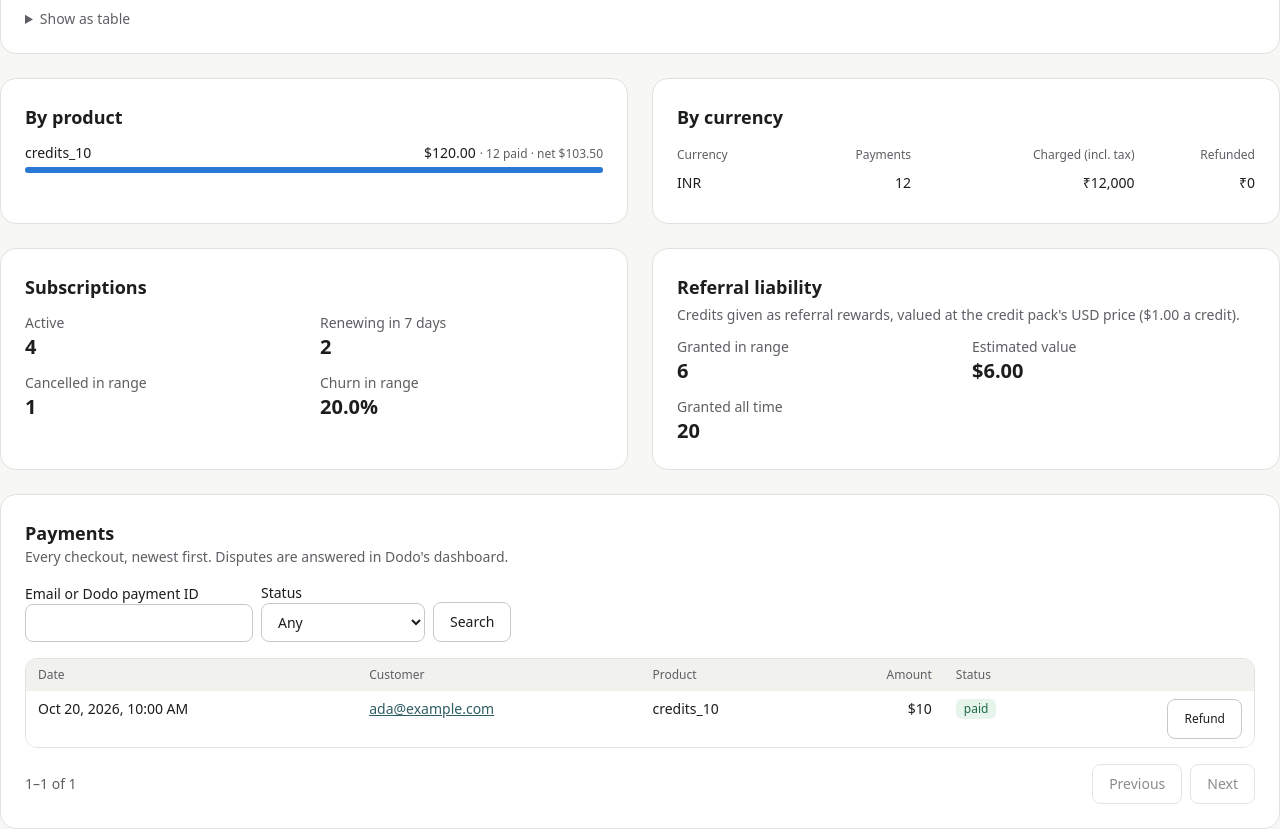
Scenario: revenue › says when a partial refund can't go through
(page scrolled)
Click the button with aria-label "Refund ada@example.com". click: (1205,719)
box: [1167,699,1242,739]
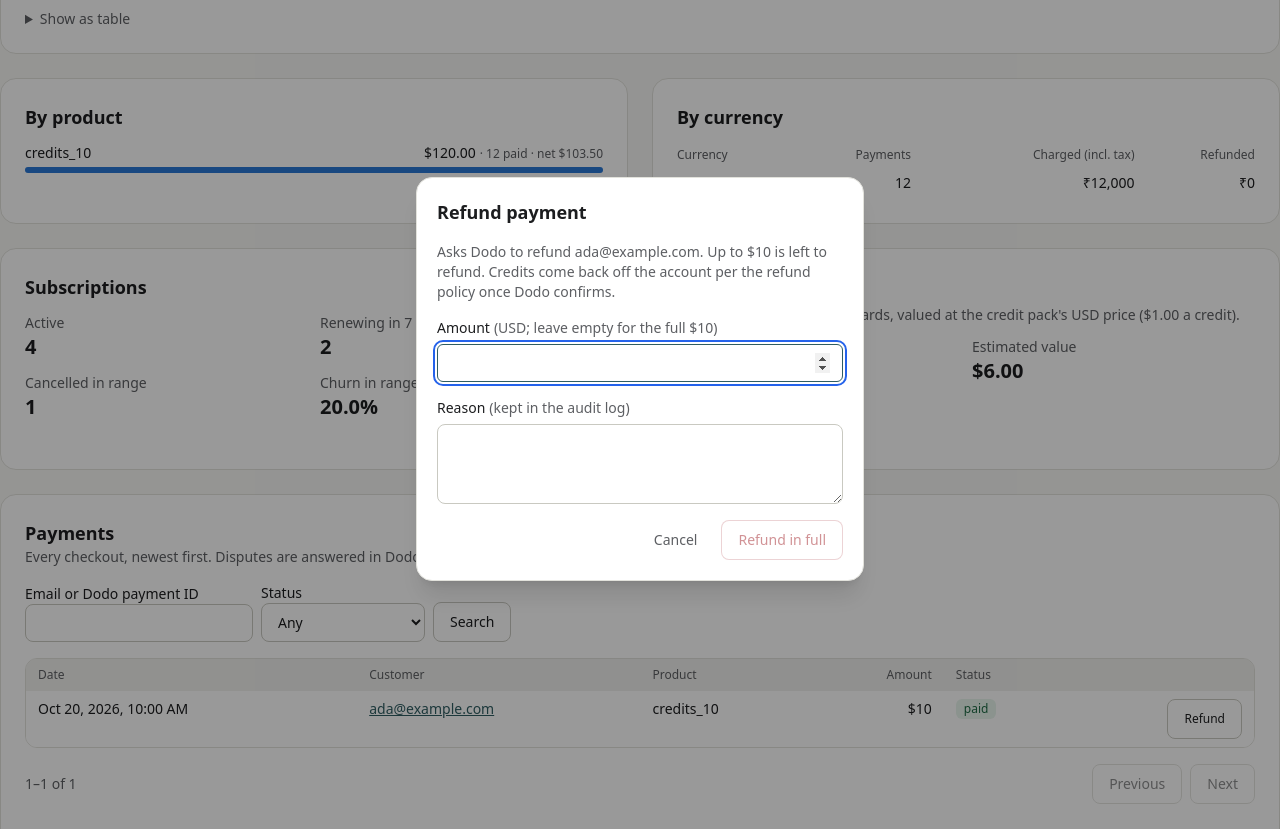
Type "1" into the number field labelled "Amount(USD; leave empty for the full $10)". click: (640,363)
box: [437,344,843,382]
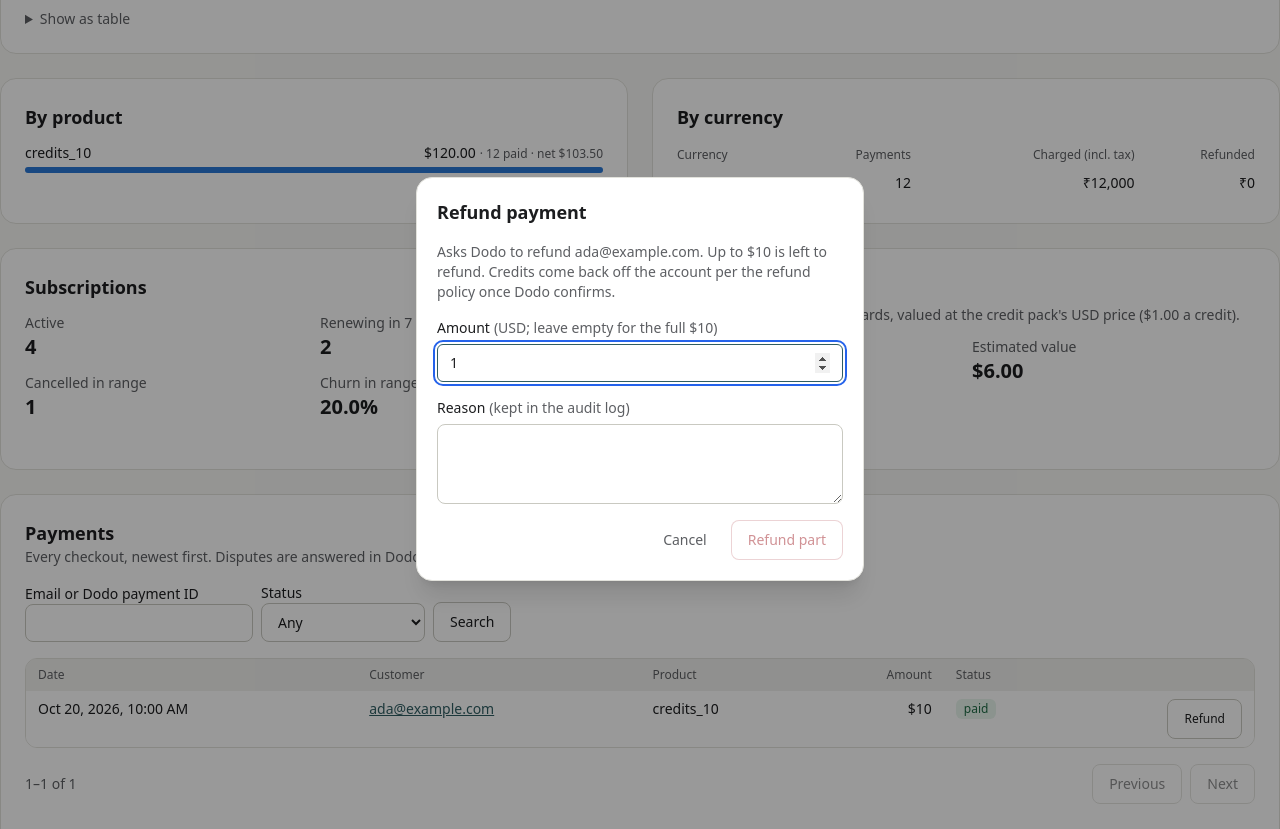
Type "goodwill" into the text box labelled "Reason(kept in the audit log)". click: (640,464)
box: [437,424,843,504]
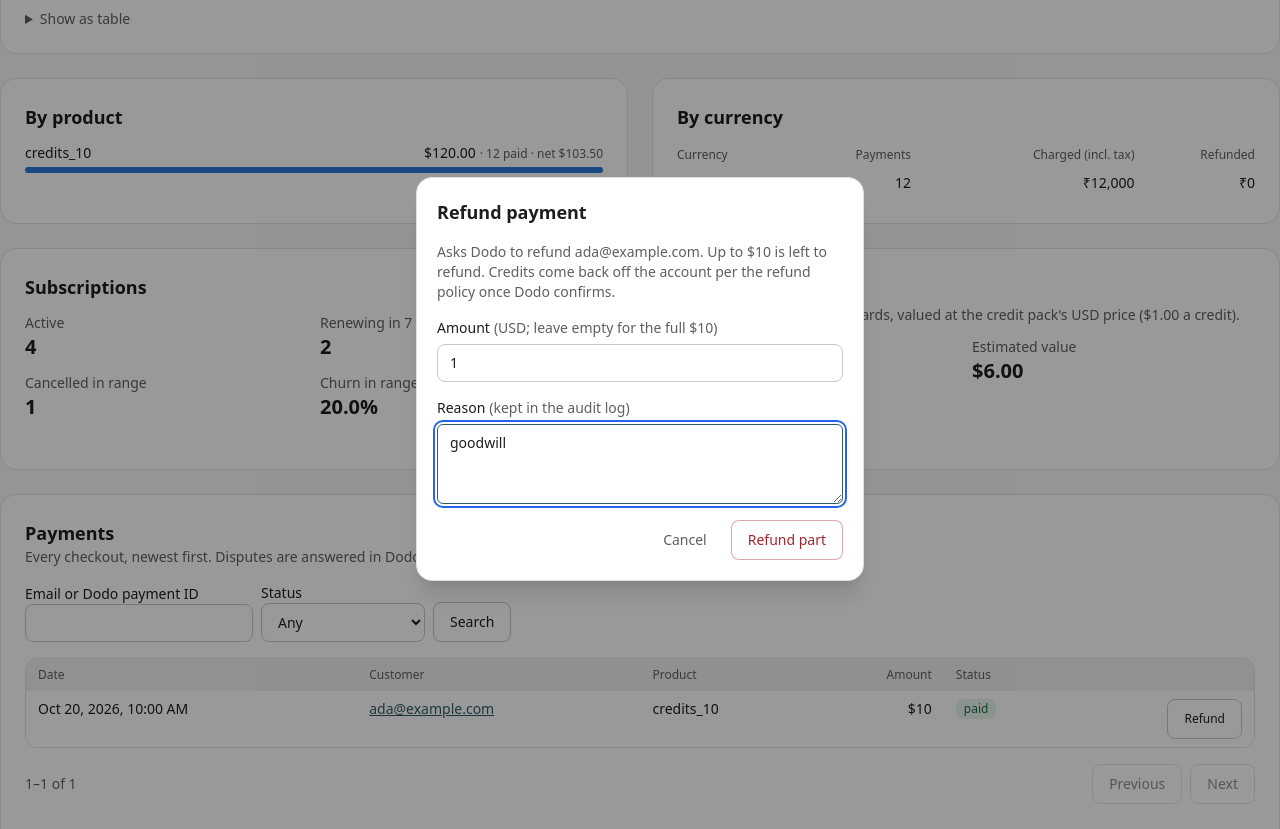
Click the button "Refund part". click: (787,540)
box: [731,520,843,560]
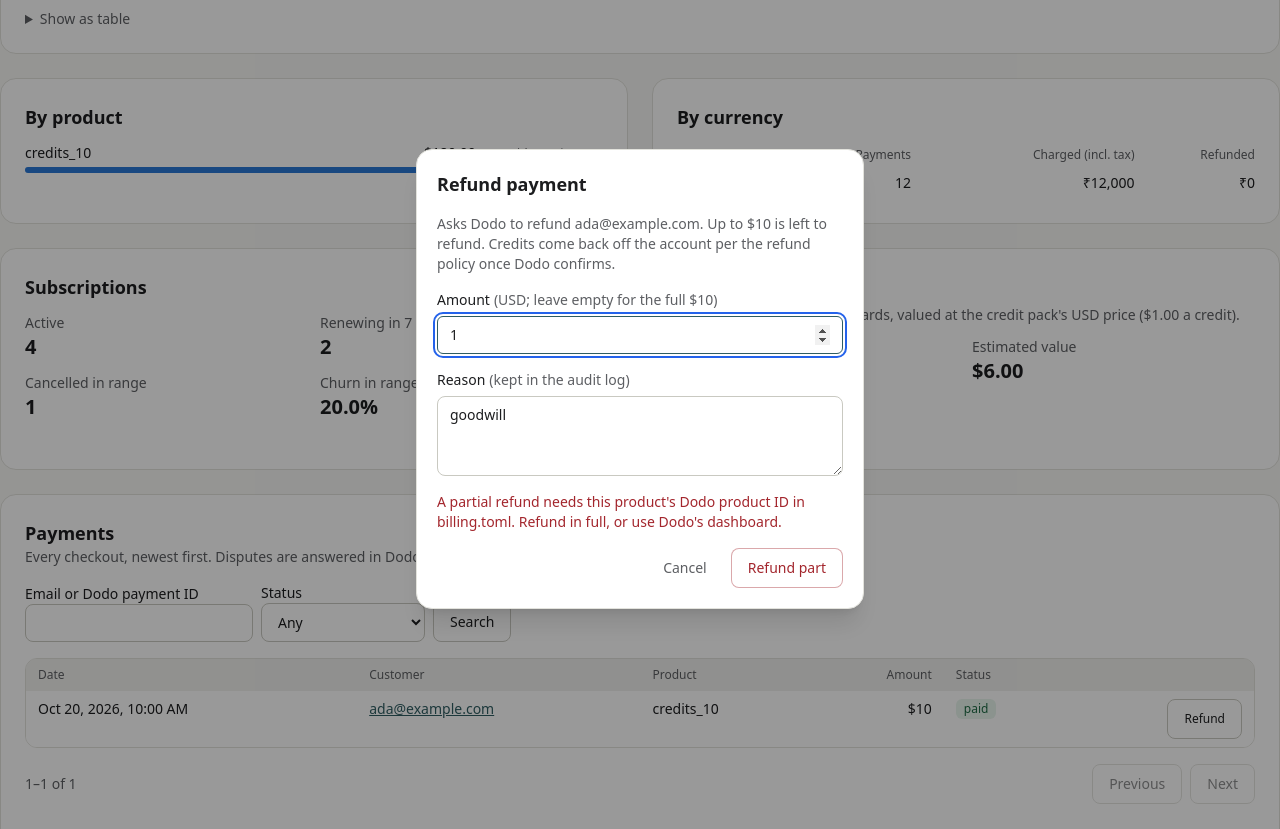
expect the message shows "Dodo product ID": met, box [437,492,805,531]
